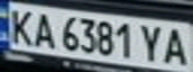1: (112, 20, 139, 60)
3: (75, 16, 100, 55)
6: (54, 14, 81, 53)
8: (93, 18, 118, 56)
A: (157, 25, 193, 68), (30, 10, 57, 48)
K: (3, 6, 36, 46)
Y: (136, 21, 169, 63)
